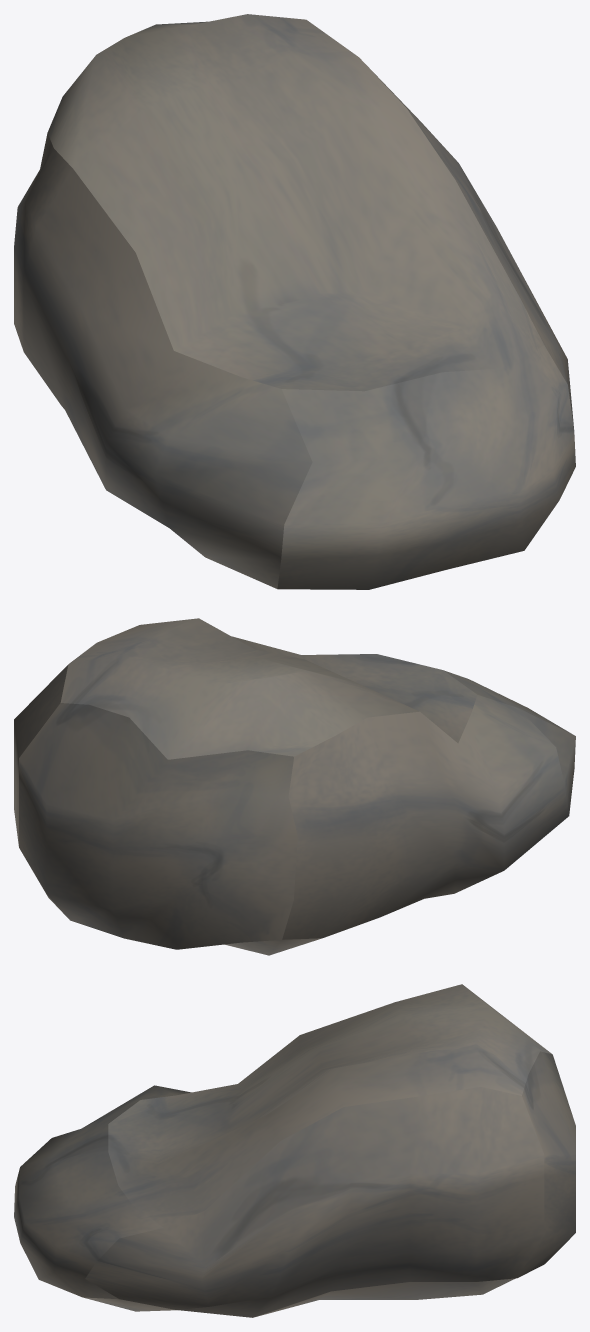
Rendered from Rock2.fbx.
The picture shows the model from 3 angles, top to bottom: view 1: azimuth 30°, elevation 25°; view 2: azimuth 150°, elevation 25°; view 3: azimuth 270°, elevation 25°; orthographic projection. The views are drawn at different scales.
Parts seen in each view (by area): view 1: pCube1; view 2: pCube1; view 3: pCube1.
Boxes of the visible parts, bbox=[...] form: pCube1: bbox=[14, 14, 575, 589]; pCube1: bbox=[14, 618, 575, 955]; pCube1: bbox=[14, 984, 575, 1317].
Size of the model in its own units: 0.0591 by 0.0437 by 0.0866.
1 material, 1 textured.
